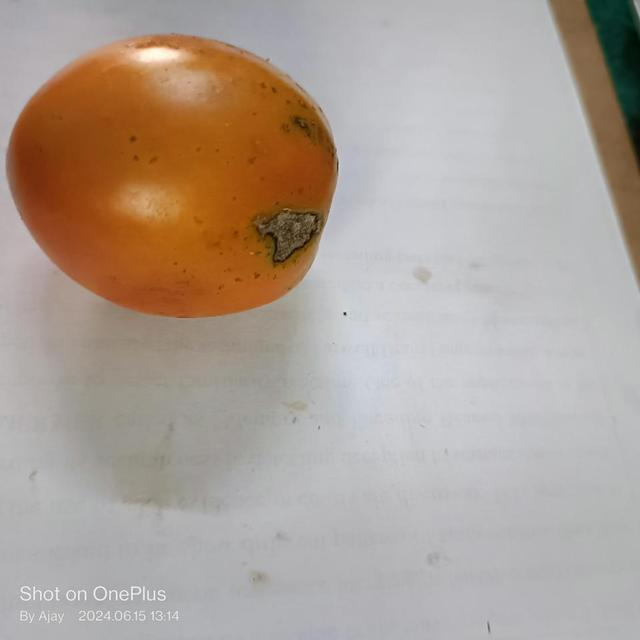Bacterial Spot Fruit: (29, 27, 201, 157)
